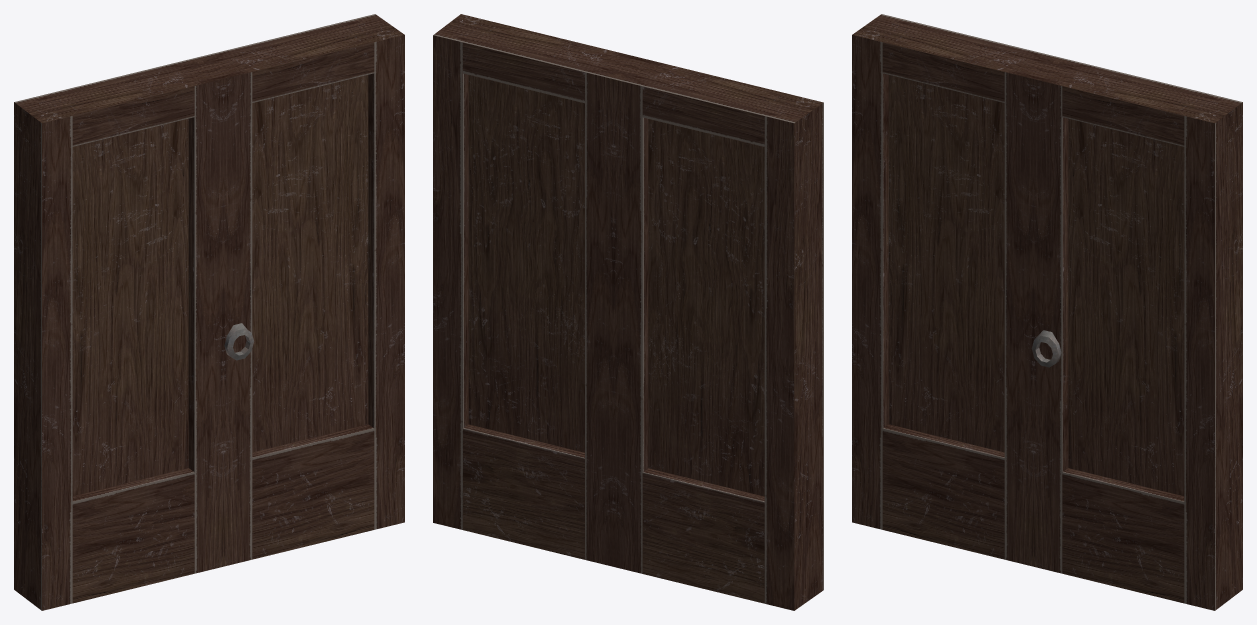
The model's file is DoubleDoors.fbx.
3 renders of one model, left to right at view 1: azimuth 30°, elevation 25°; view 2: azimuth 150°, elevation 25°; view 3: azimuth 330°, elevation 25°, orthographic.
Visible parts, largest first — view 1: LeftDoor, RightDoor; view 2: LeftDoor, RightDoor; view 3: RightDoor, LeftDoor.
Boxes of the visible parts, x1,y1,x2,y2 form: LeftDoor: (14, 58, 223, 610); RightDoor: (195, 14, 404, 566); LeftDoor: (613, 58, 823, 610); RightDoor: (433, 14, 641, 566); RightDoor: (1031, 58, 1242, 610); LeftDoor: (852, 14, 1061, 566).
Size of the model in its own units: 118 by 151 by 18.29.
Materials: 1 (1 with a texture image).
